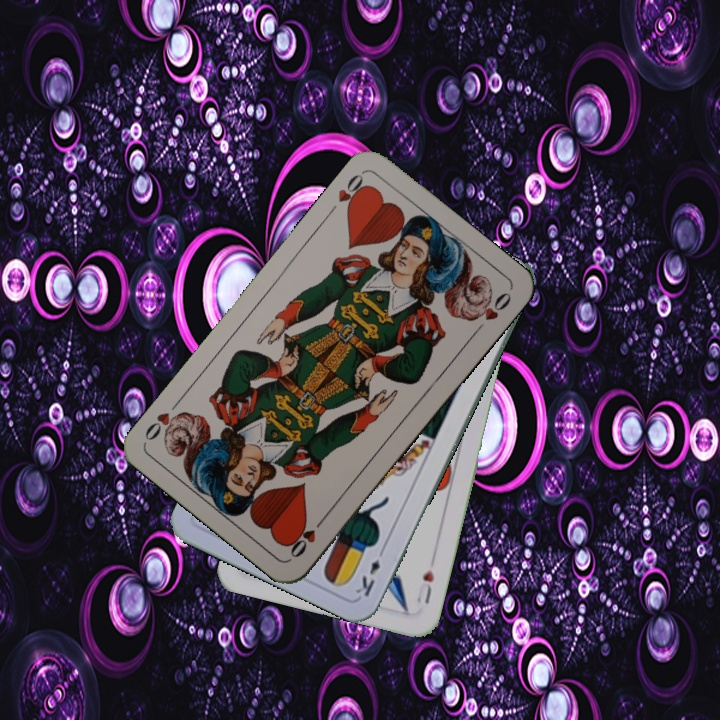EK: (351, 543, 388, 599)
HO: (285, 511, 329, 561), (333, 168, 372, 216)
HU: (412, 566, 437, 607)
